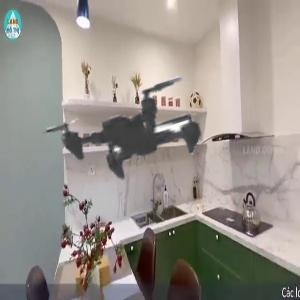drone: (4, 12, 274, 282)
